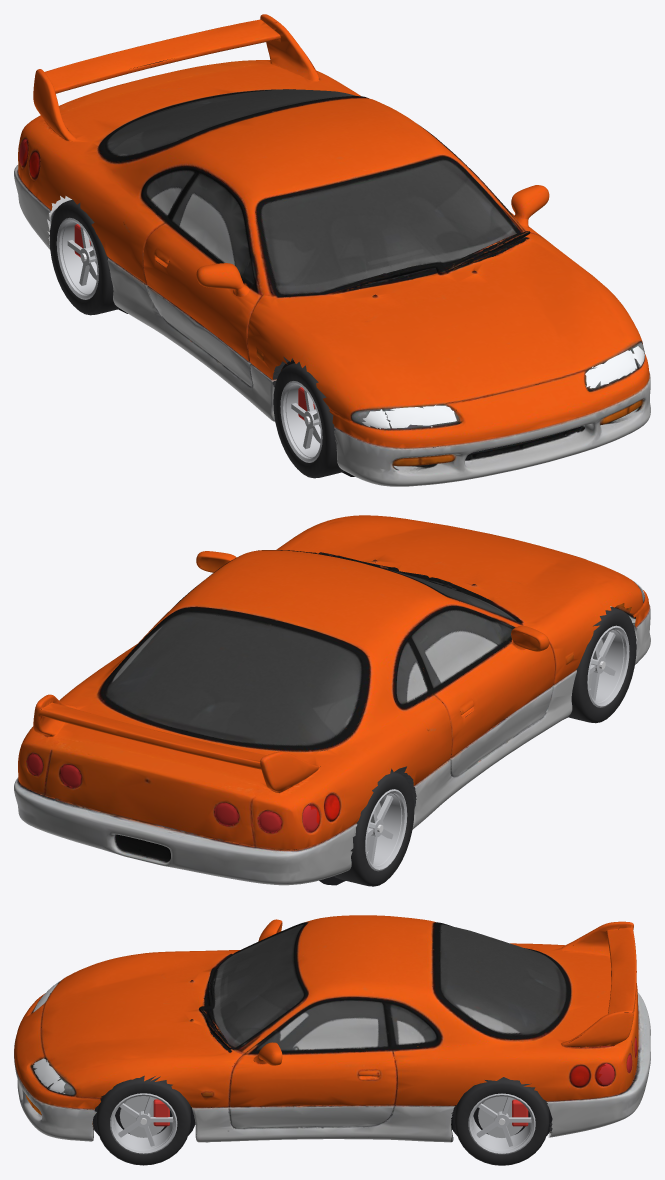
The model's file is kaze_rt.glb.
3 views of the same model, one above another, from view 1: azimuth 30°, elevation 25°; view 2: azimuth 150°, elevation 25°; view 3: azimuth 270°, elevation 25° (orthographic). The views are drawn at different scales.
Parts seen in each view (by area): view 1: KazeBody, WheelFLTyre, WheelRLTyre, WheelFLRims, WheelRLRims; view 2: KazeBody, WheelRLTyre, WheelFLTyre, WheelFLRims, WheelRLRims; view 3: KazeBody, WheelFRTyre, WheelRRTyre, WheelRRRims, WheelFRRims.
Boxes of the visible parts, left/top/right/bottom form: KazeBody: left=14, top=14, right=650, bottom=486; WheelFLTyre: left=273, top=362, right=345, bottom=478; WheelRLTyre: left=49, top=199, right=120, bottom=315; WheelFLRims: left=280, top=381, right=322, bottom=462; WheelRLRims: left=56, top=217, right=98, bottom=299; KazeBody: left=14, top=515, right=650, bottom=885; WheelRLTyre: left=334, top=771, right=414, bottom=886; WheelFLTyre: left=567, top=607, right=636, bottom=723; WheelFLRims: left=587, top=625, right=629, bottom=707; WheelRLRims: left=365, top=789, right=407, bottom=871; KazeBody: left=14, top=915, right=650, bottom=1142; WheelFRTyre: left=96, top=1075, right=190, bottom=1165; WheelRRTyre: left=454, top=1077, right=549, bottom=1165; WheelRRRims: left=468, top=1093, right=535, bottom=1154; WheelFRRims: left=110, top=1093, right=177, bottom=1154.
Size of the model in its own units: 2.37 by 1.35 by 4.64.
11 materials, 3 textured.
